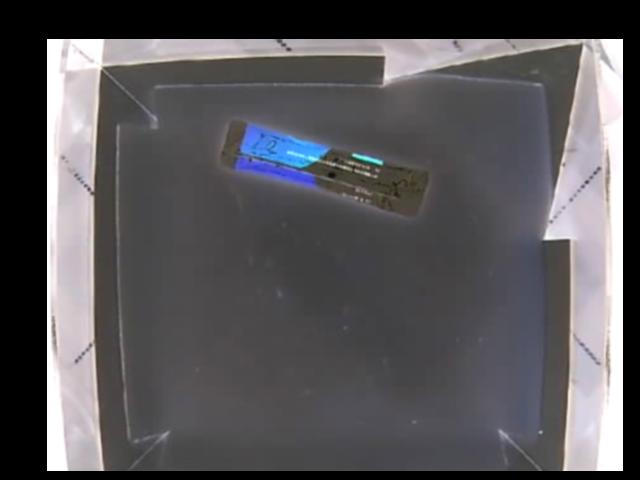Medicine: (219, 120, 431, 217)
